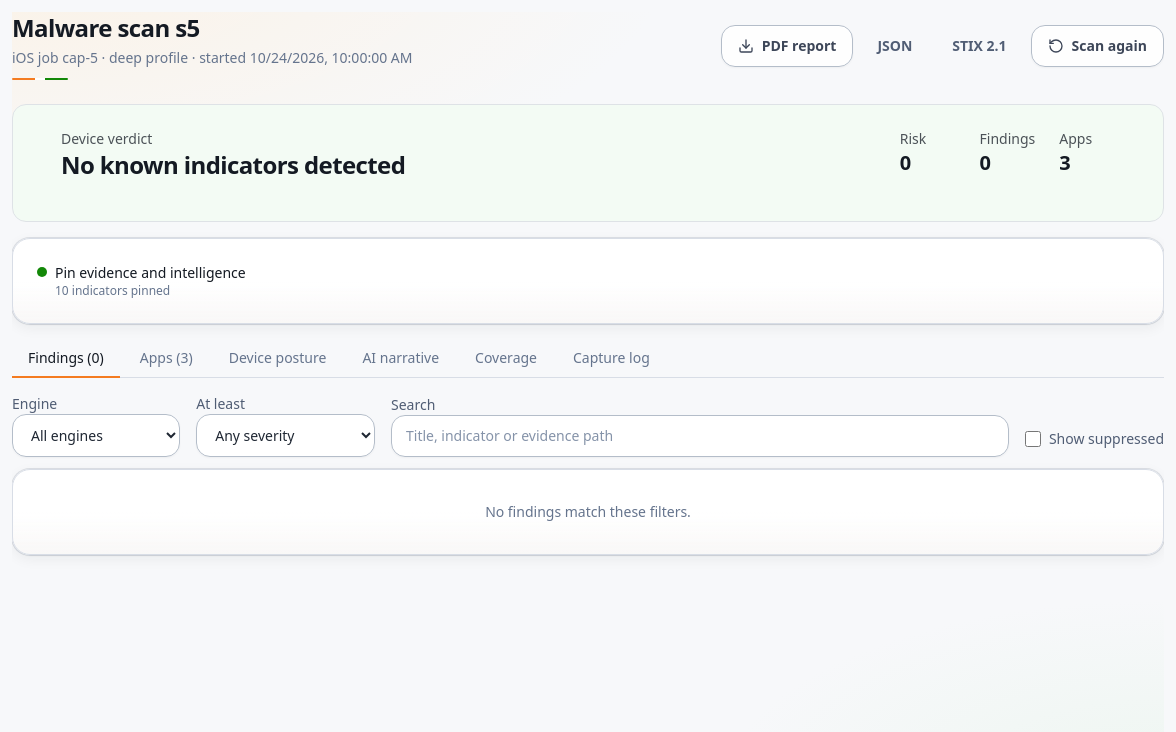
Capture log tab › lists every command run on the phone for a live scan
The image size is (1176, 732).
Click the tab "Capture log" at (611, 359), box [557,340,666,378]
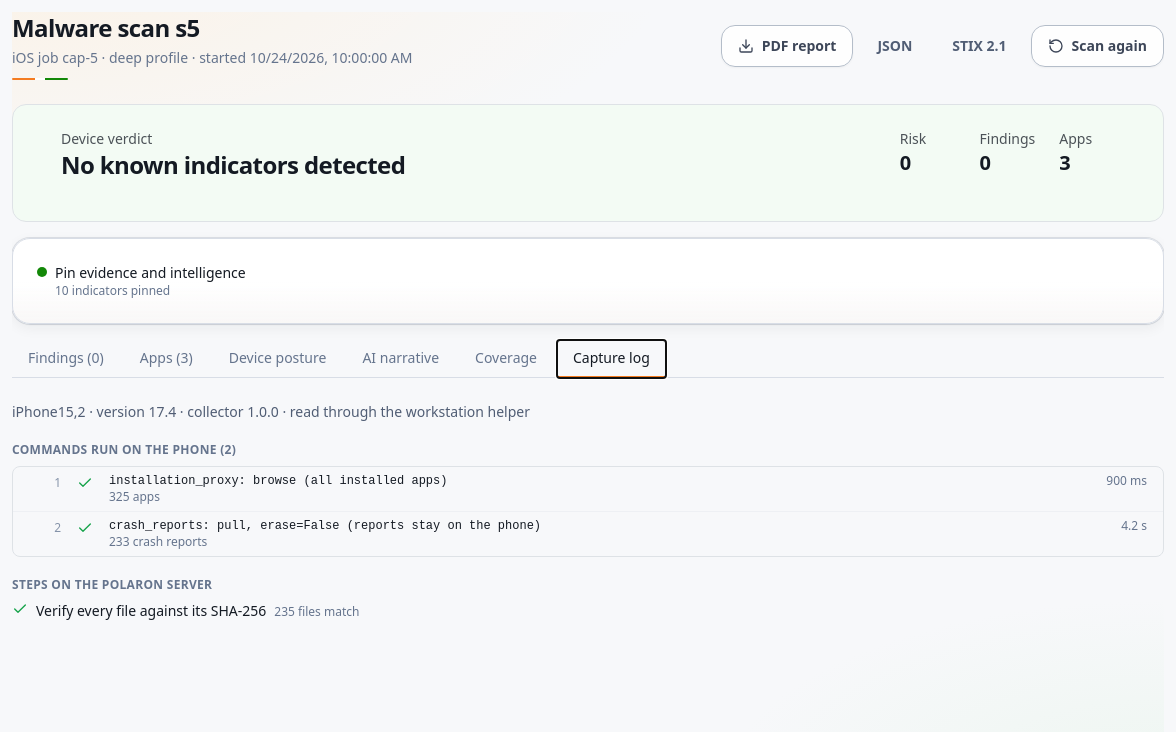
Expected: the text "crash_reports: pull, erase=False (reports stay on the phone)" is shown, [109,519,541,533]
Expected: the text "233 crash reports" is shown, [109,533,207,550]
Expected: the text "235 files match" is shown, [274,603,359,620]
